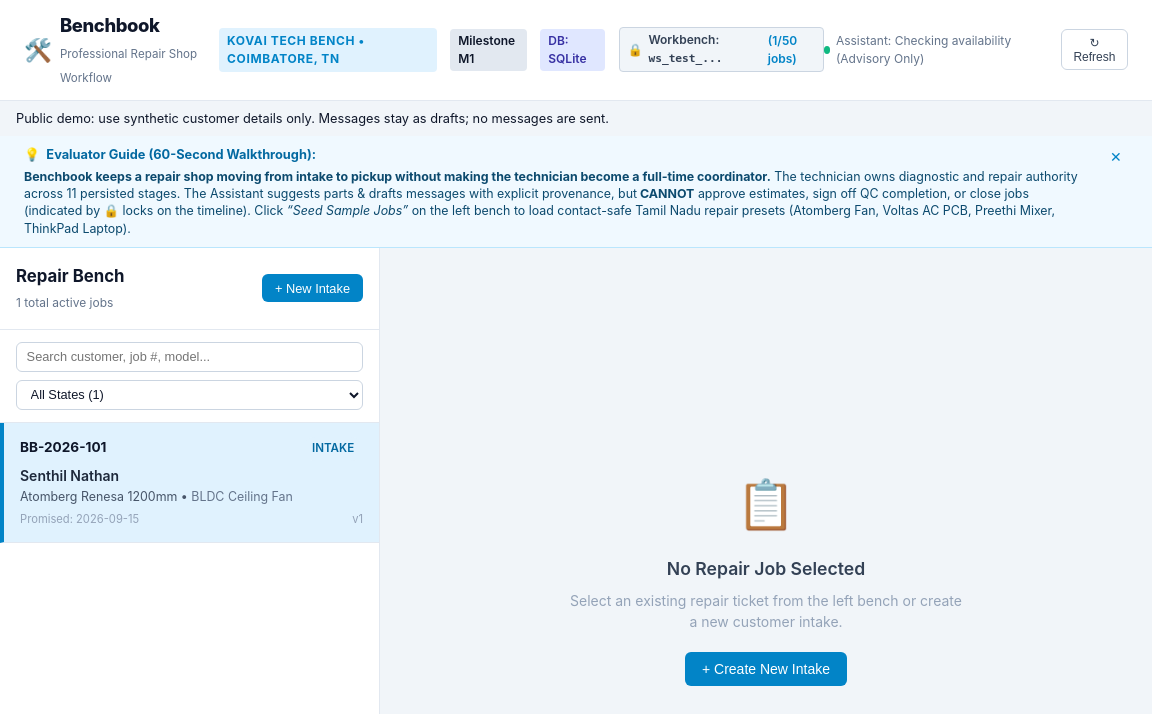
it: Benchbook Frontend Workflow Tests › renders evaluator guide banner and allows dismissal
This screenshot has width=1152, height=714.
Check: the text "Evaluator Guide (60-Second Walkthrough):" is shown, box [46,145,316,165]
Check: the text "keeps a repair shop moving from intake to pickup" is shown, box [24,169,771,184]
What coordinates should you click on to do the following:
click the button named "Dismiss Evaluator Guide"
I would click on:
 (1116, 157)
Its box is [1104,145,1128,168].
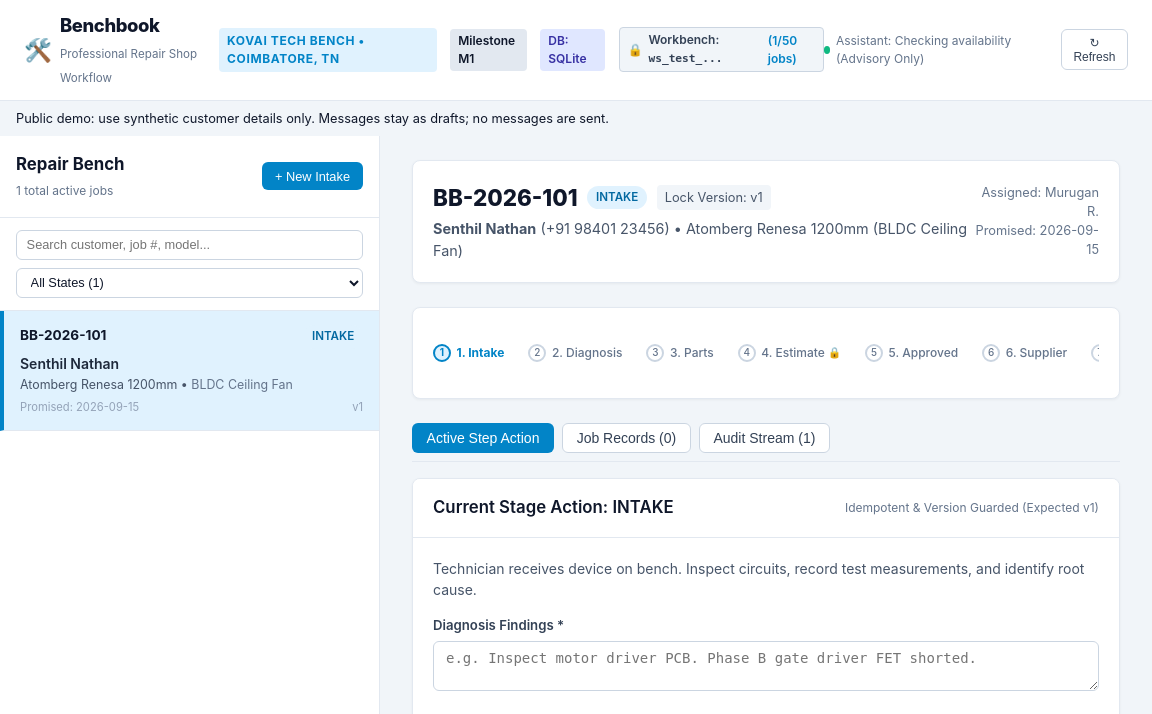
Check: the text "Evaluator Guide" is gone
